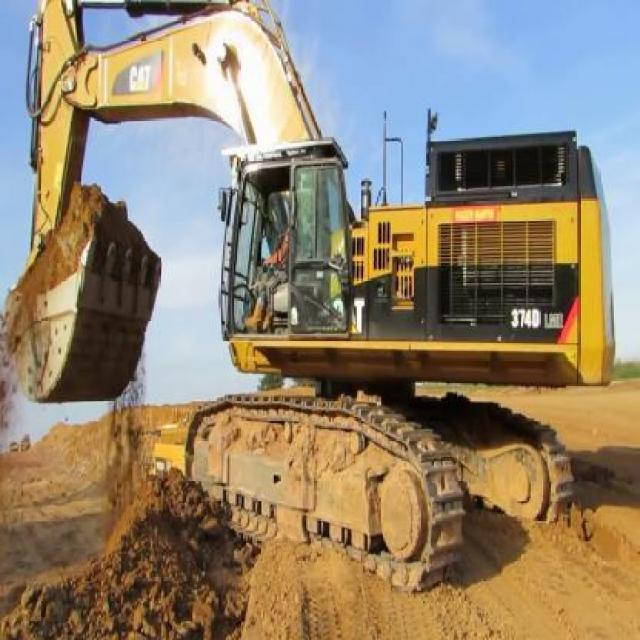Excavator: (4, 0, 617, 598)
